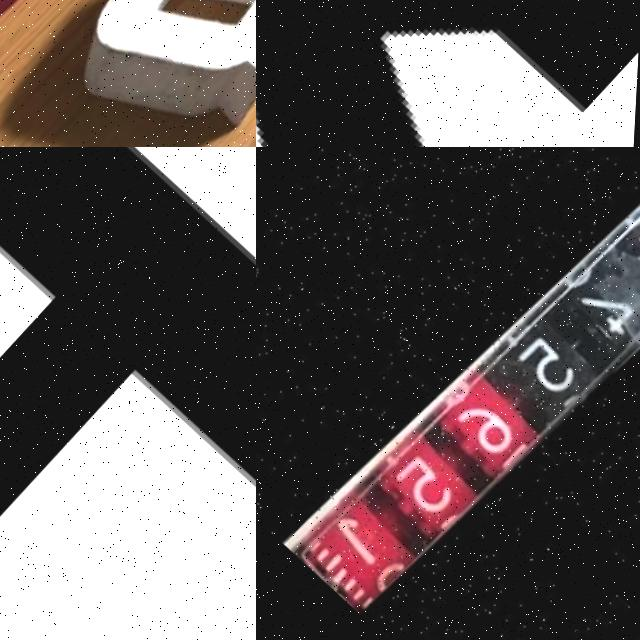1: (324, 499, 401, 572)
4: (573, 264, 640, 338)
5: (509, 319, 593, 399), (390, 441, 471, 519)
6: (450, 383, 532, 461)
F: (0, 147, 256, 640)
K: (256, 0, 640, 147)
Q: (21, 0, 256, 147)
